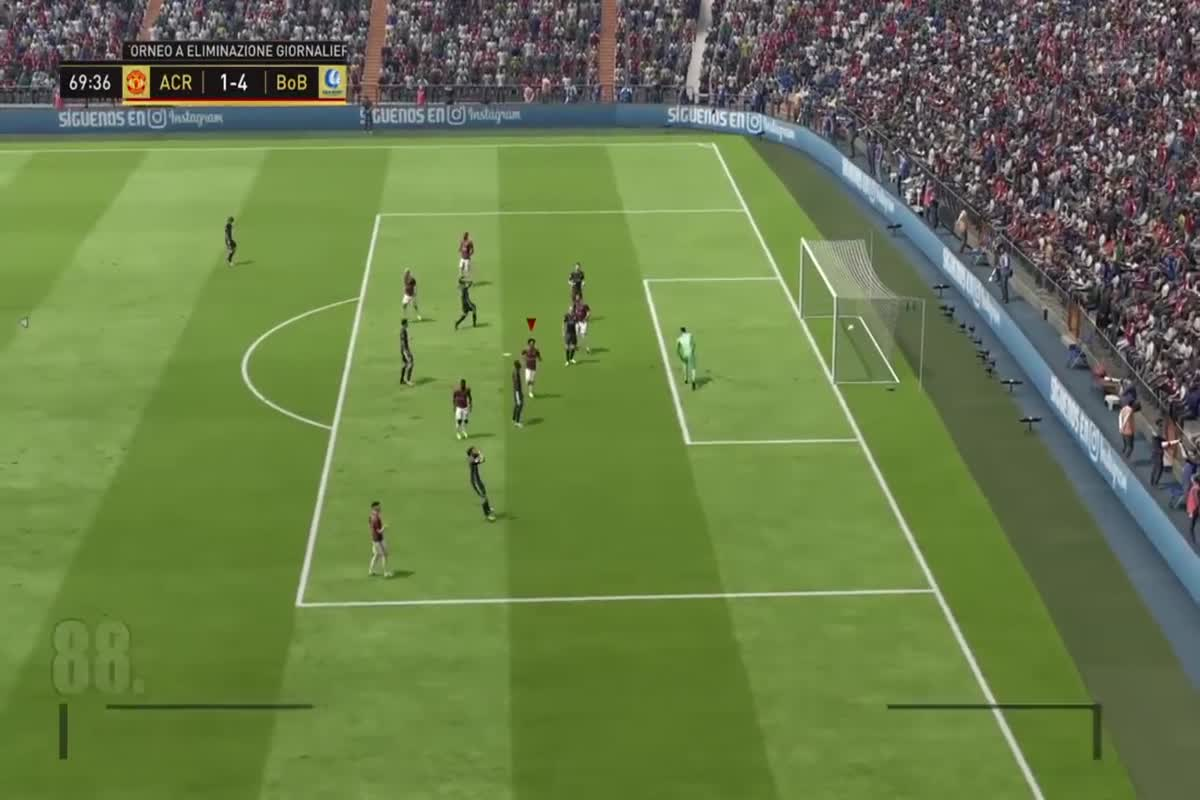ball: (841, 314, 863, 338)
